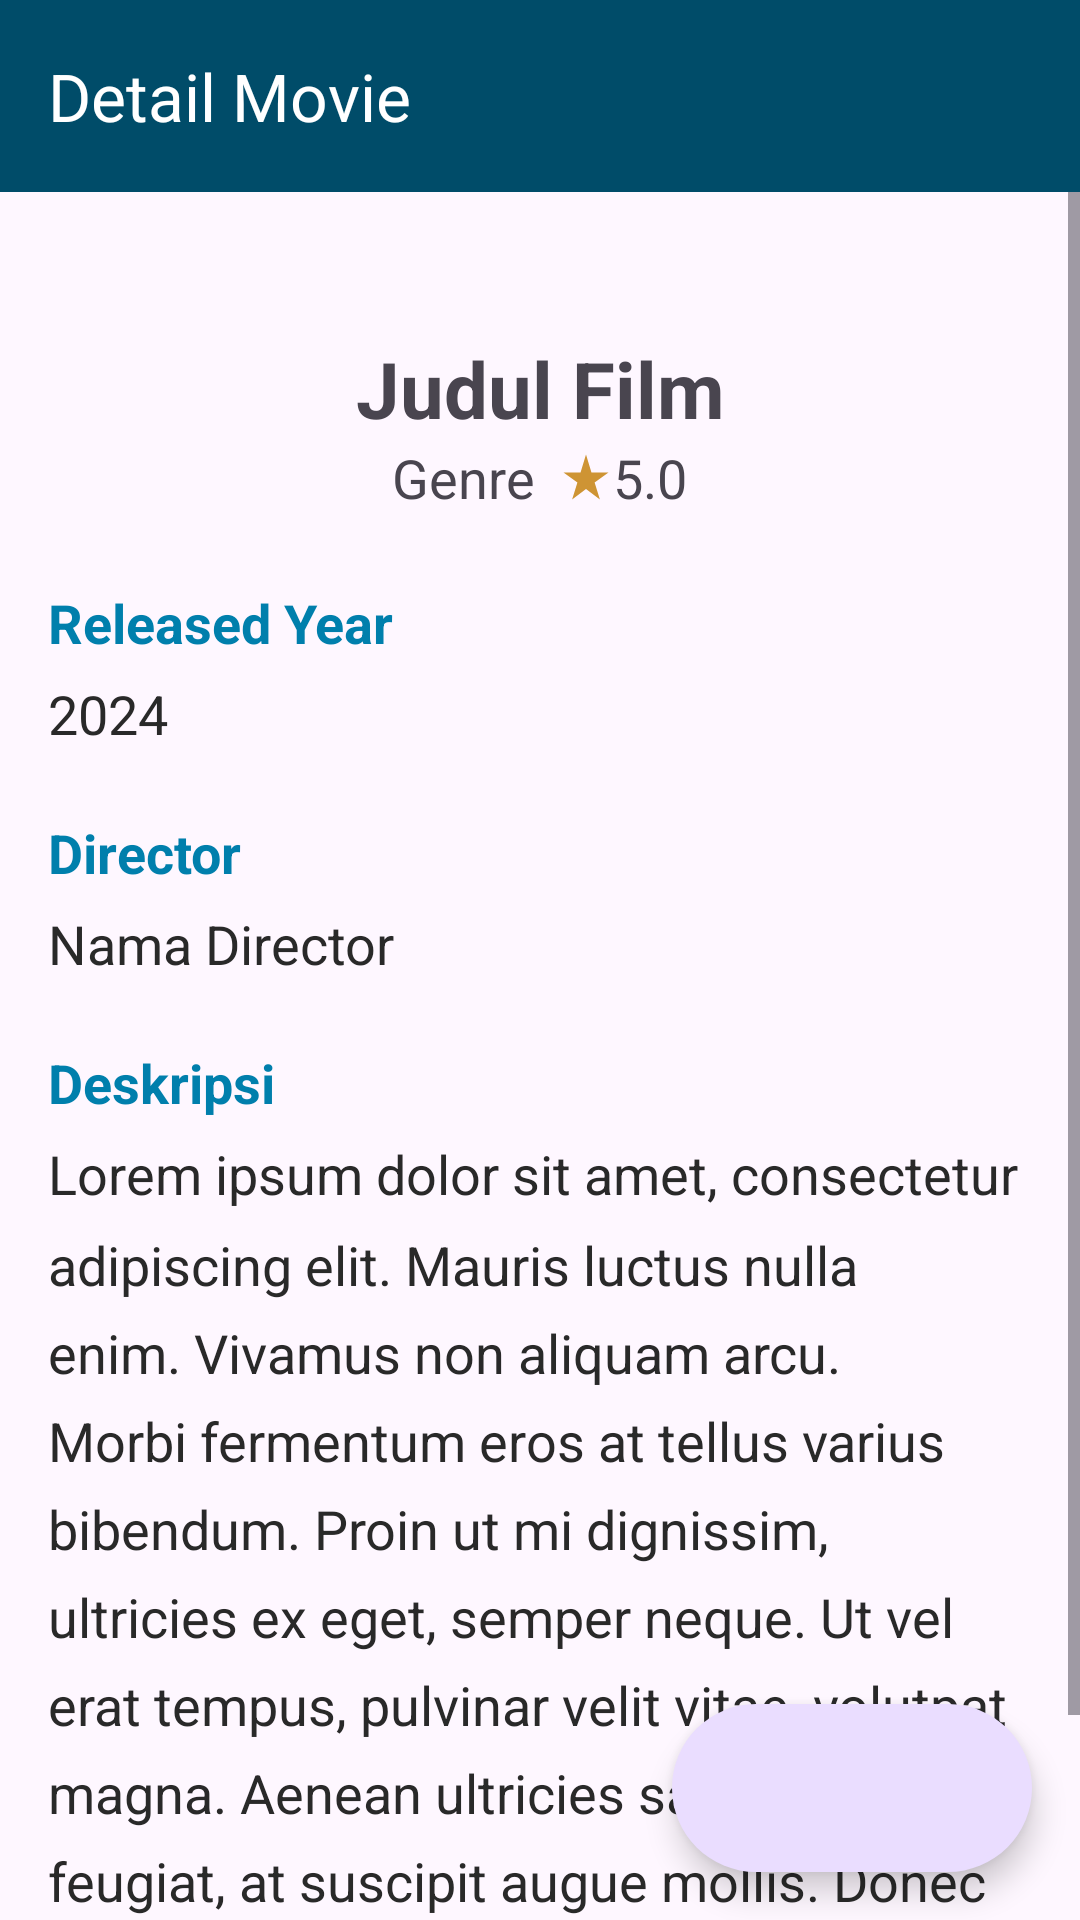

Named icons in this screenshot (1080w x 1920h) and their centers, (x=x, y=y):
rate: (x=586, y=477)
